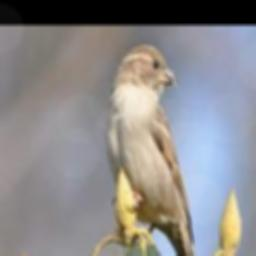Sparrow: (105, 44, 198, 256)
